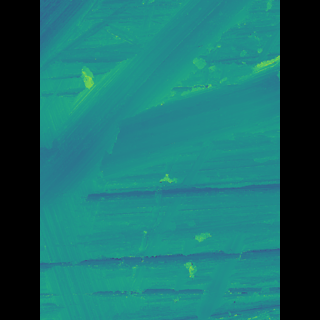Loch: (69, 0, 248, 207)
